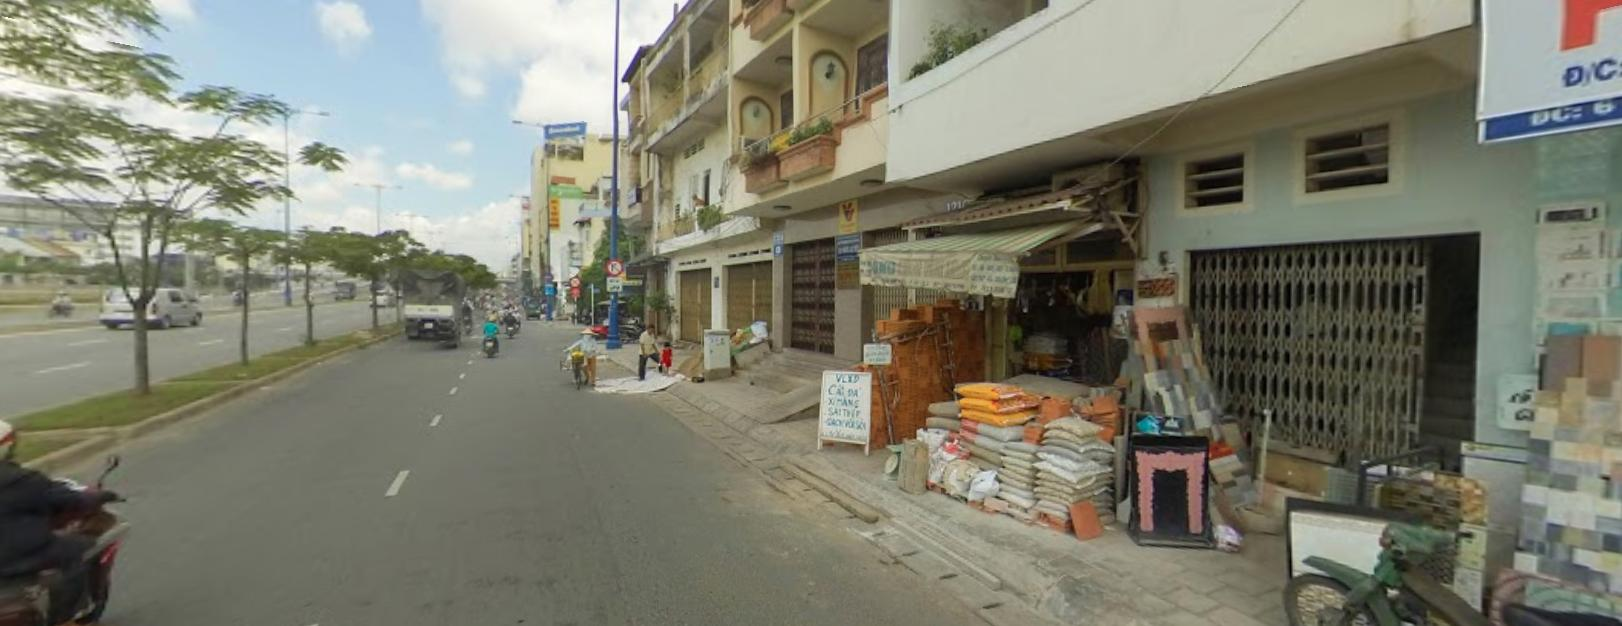Cam re: (605, 258, 622, 274), (569, 275, 581, 286)
